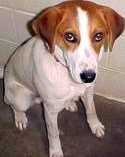Dog: (2, 0, 124, 136)
